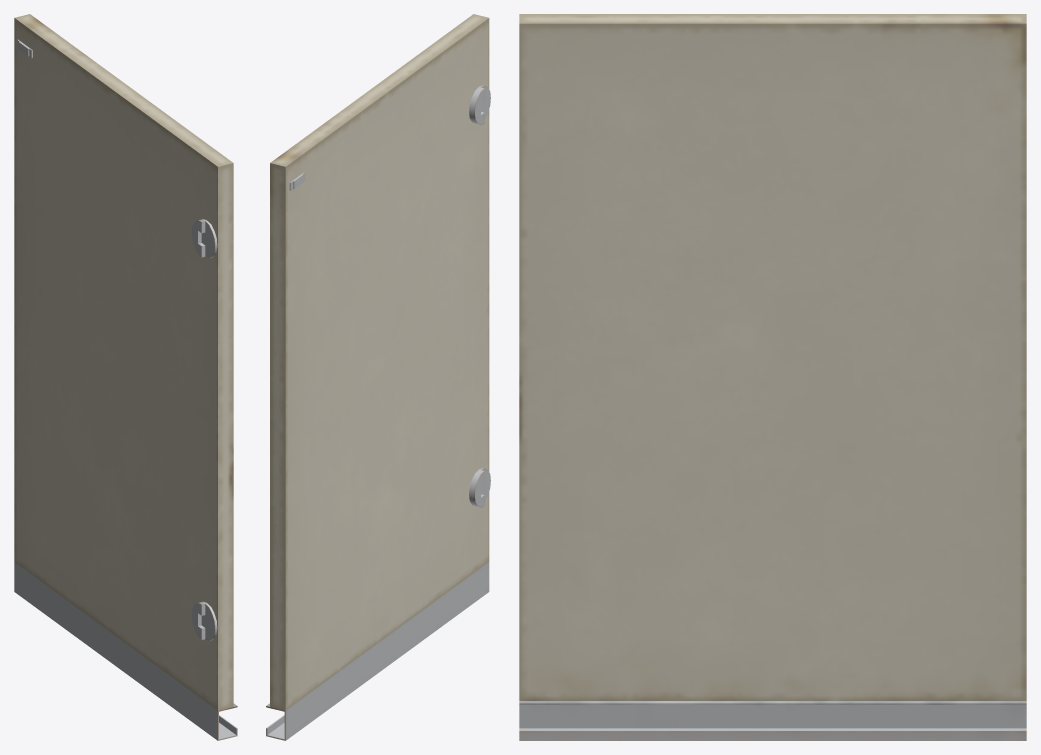
File: FurnitureKicthen03_DoorUpLeft01.FBX
3 renders of one model, left to right at view 1: azimuth 30°, elevation 25°; view 2: azimuth 150°, elevation 25°; view 3: azimuth 270°, elevation 25°, orthographic. The views are drawn at different scales.
Parts seen in each view (by area): view 1: FurnitureKicthen03_DoorUpLeft01; view 2: FurnitureKicthen03_DoorUpLeft01; view 3: FurnitureKicthen03_DoorUpLeft01.
Boxes of the visible parts, x1=… form: FurnitureKicthen03_DoorUpLeft01: x1=14, y1=14, x2=237, y2=740; FurnitureKicthen03_DoorUpLeft01: x1=266, y1=14, x2=490, y2=740; FurnitureKicthen03_DoorUpLeft01: x1=519, y1=14, x2=1026, y2=740.
Size of the model in its own units: 3.24 by 45 by 70.
